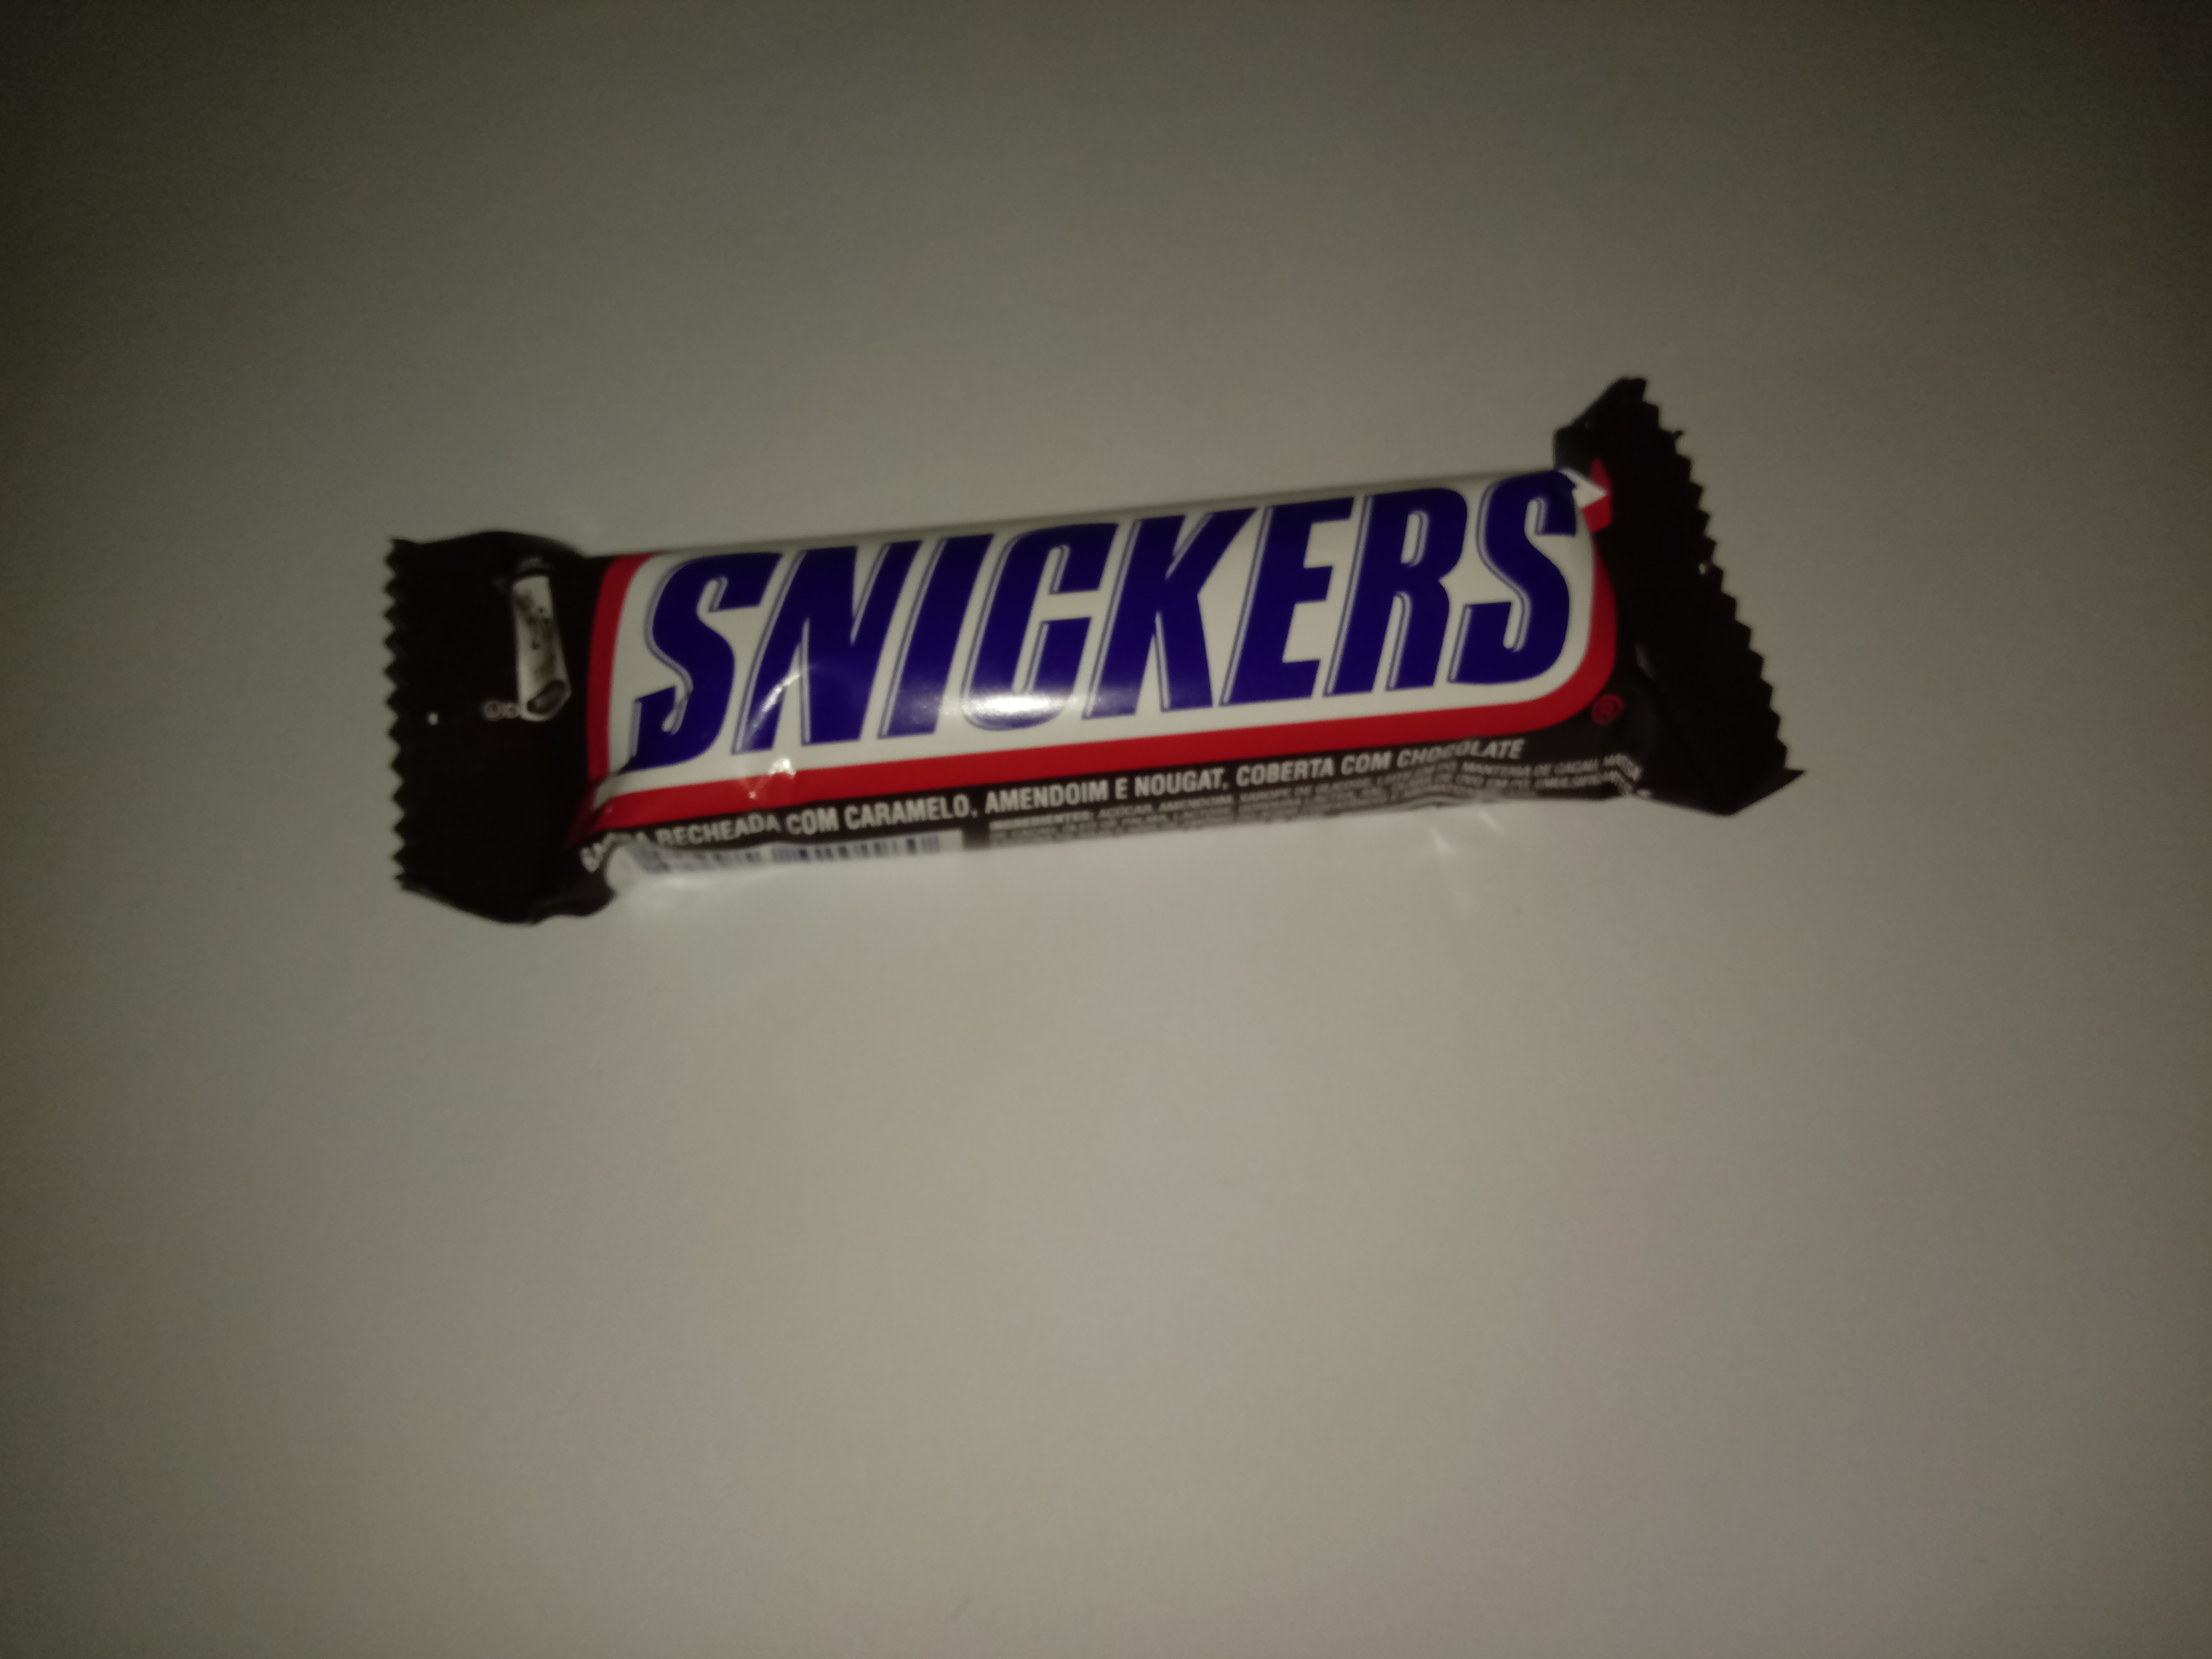snickers: (368, 355, 1871, 953)
